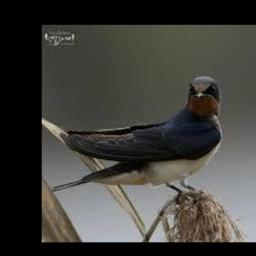Swallow: (49, 76, 223, 193)
